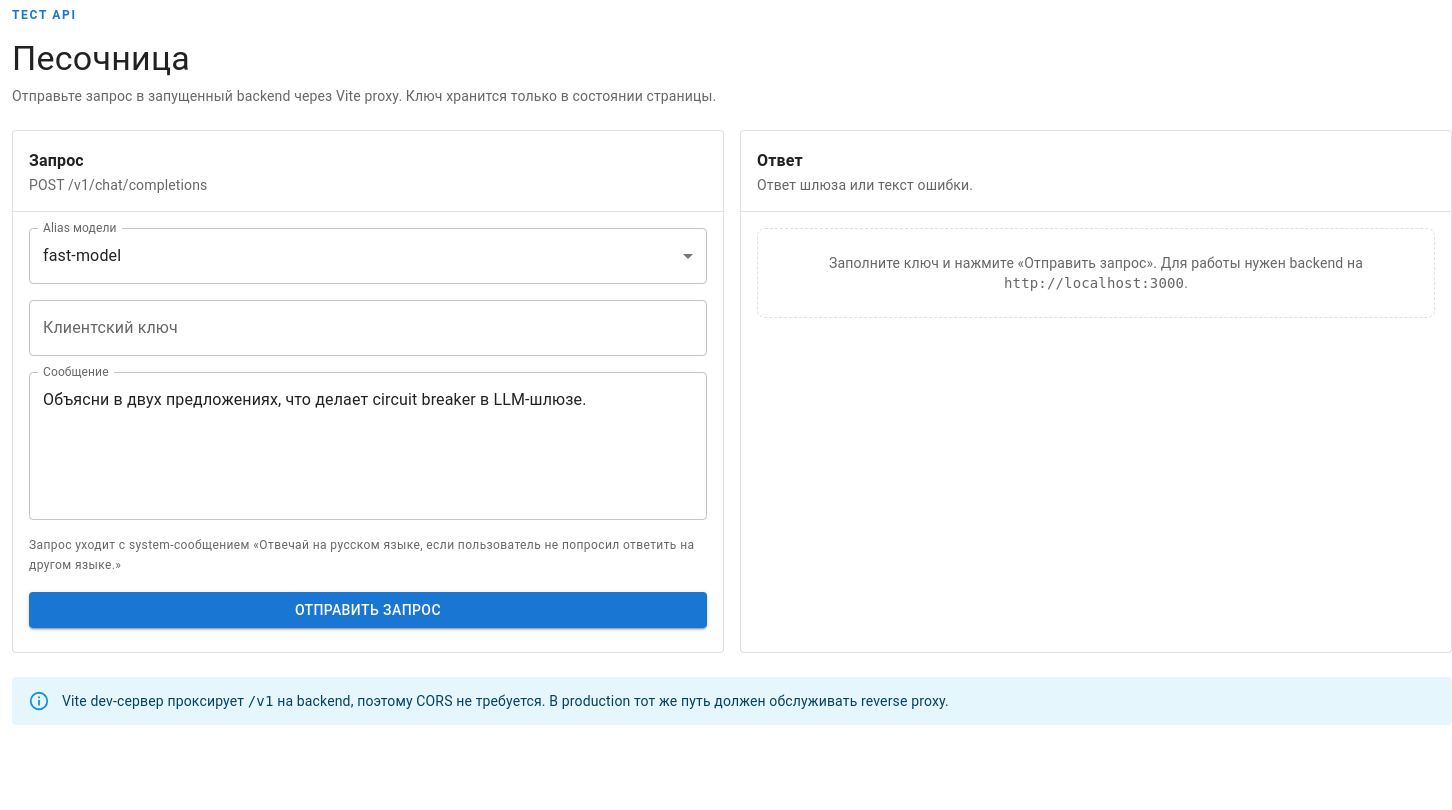
PlaygroundPage › renders a gateway error message from the API payload
Type "lgw_test" into the password field labelled "Клиентский ключ" at (368, 328), box [29, 300, 707, 356]
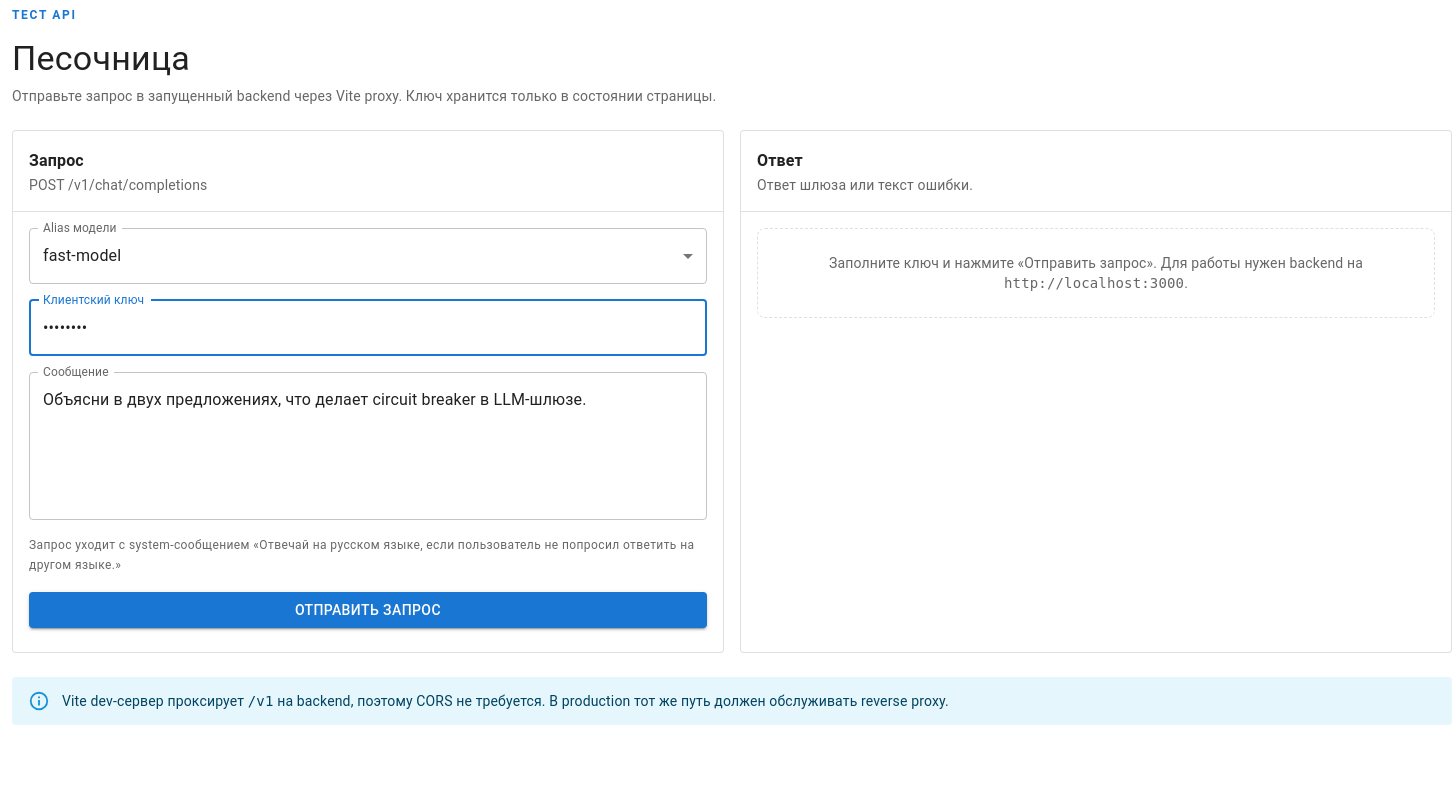
Click the button "Отправить запрос" at (368, 610), box [29, 592, 707, 628]
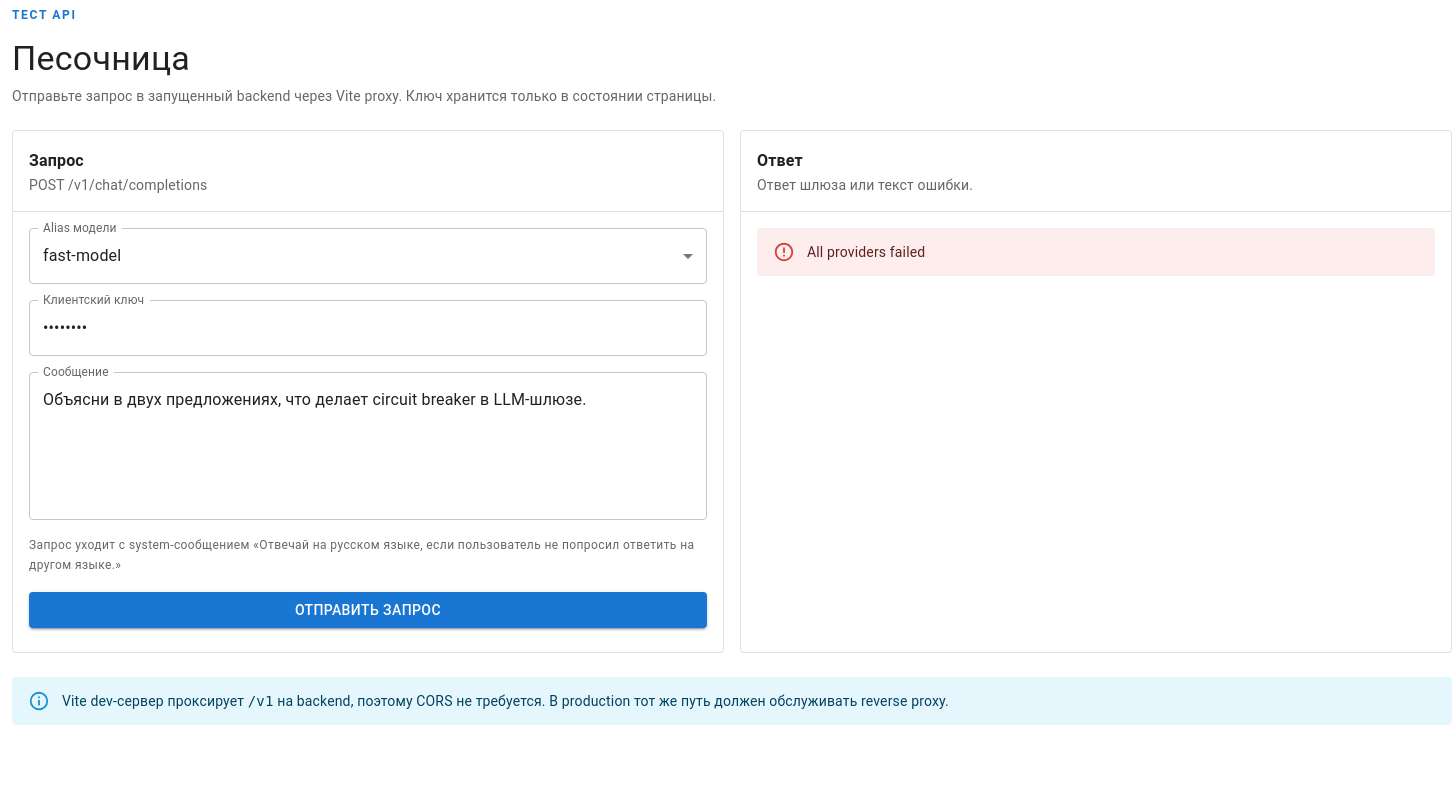
Result: the text "All providers failed" is shown at [807, 244, 925, 260]
